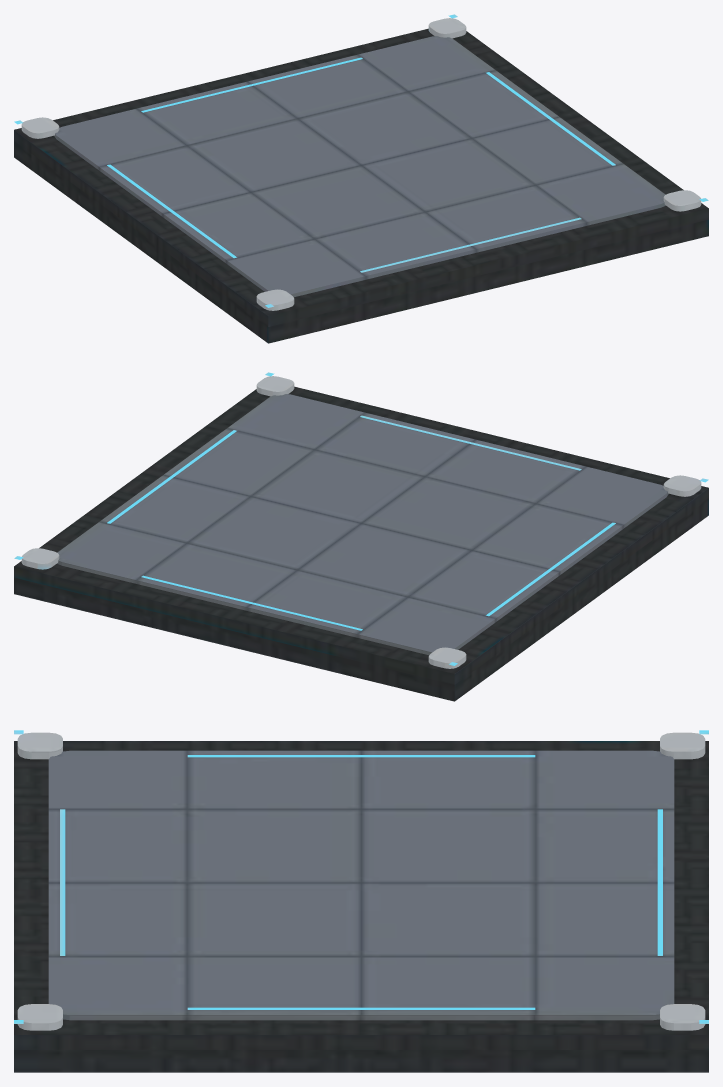
The model's file is hull_enterprise_hull_armored.glb.
The picture shows the model from 3 angles, top to bottom: view 1: azimuth 30°, elevation 25°; view 2: azimuth 150°, elevation 25°; view 3: azimuth 270°, elevation 25°; orthographic projection. The views are drawn at different scales.
Parts seen in each view (by area): view 1: te_hull_enterprise_hull_armored; view 2: te_hull_enterprise_hull_armored; view 3: te_hull_enterprise_hull_armored.
Boxes of the visible parts, left/top/right/bottom form: te_hull_enterprise_hull_armored: left=14, top=14, right=708, bottom=343; te_hull_enterprise_hull_armored: left=14, top=372, right=708, bottom=701; te_hull_enterprise_hull_armored: left=14, top=730, right=708, bottom=1072.
Size of the model in its own units: 1 by 0.0772 by 1.
1 material, 1 textured.
